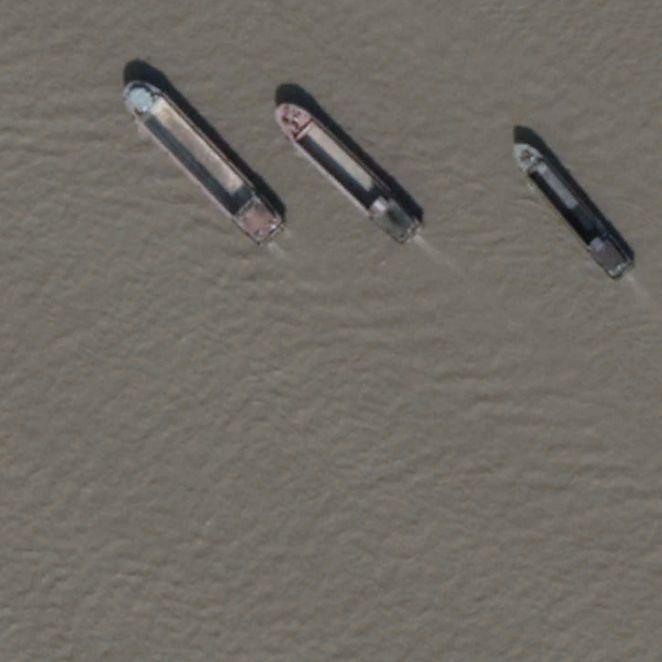boat: (115, 75, 286, 248), (267, 95, 425, 247), (507, 134, 637, 282)
